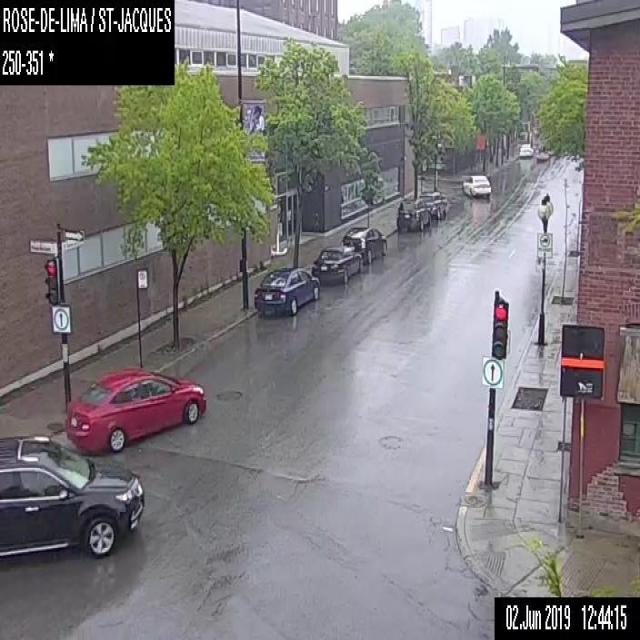vehicle: (0, 436, 143, 557), (67, 368, 206, 449), (253, 267, 319, 316), (310, 244, 364, 284), (342, 225, 388, 261), (396, 196, 431, 231), (417, 190, 448, 217), (463, 172, 490, 196), (517, 141, 534, 157)
